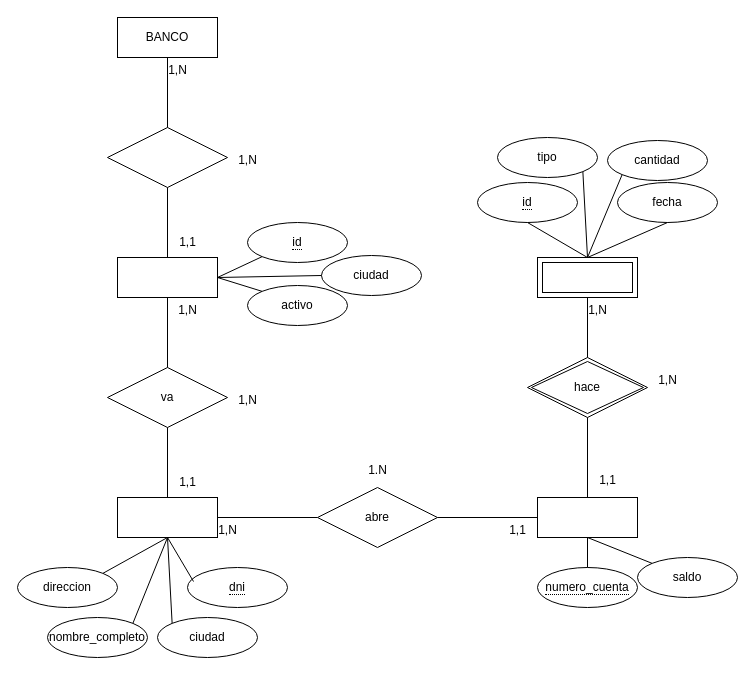
Some shapes in this 755 by 675 pixel diagram are drawn without their labels. Each missing label, with the box of its shape:
CLIENTE: (116, 496, 218, 538)
CUENTA: (536, 496, 638, 538)
SUCURSAL: (116, 256, 218, 298)
tiene: (106, 126, 228, 188)
TRANSACCION: (536, 256, 638, 298)
